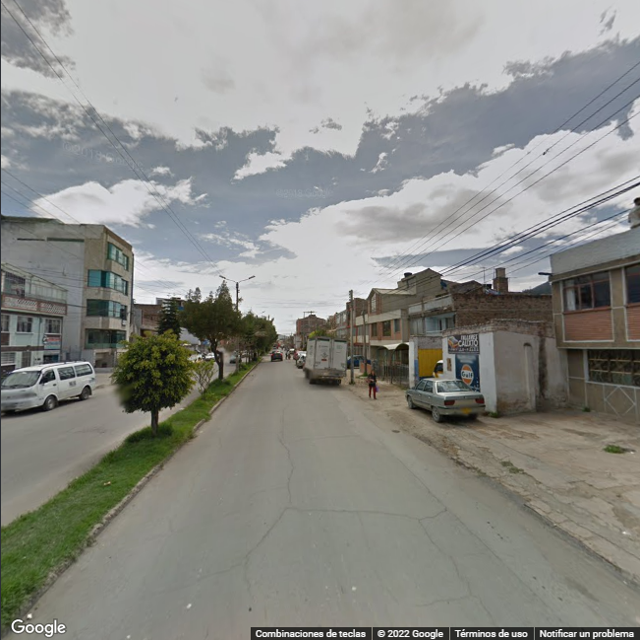D00: (413, 512, 468, 588), (245, 505, 291, 544), (238, 537, 255, 624), (467, 588, 502, 621)
D10: (287, 504, 421, 523), (416, 586, 474, 610)
